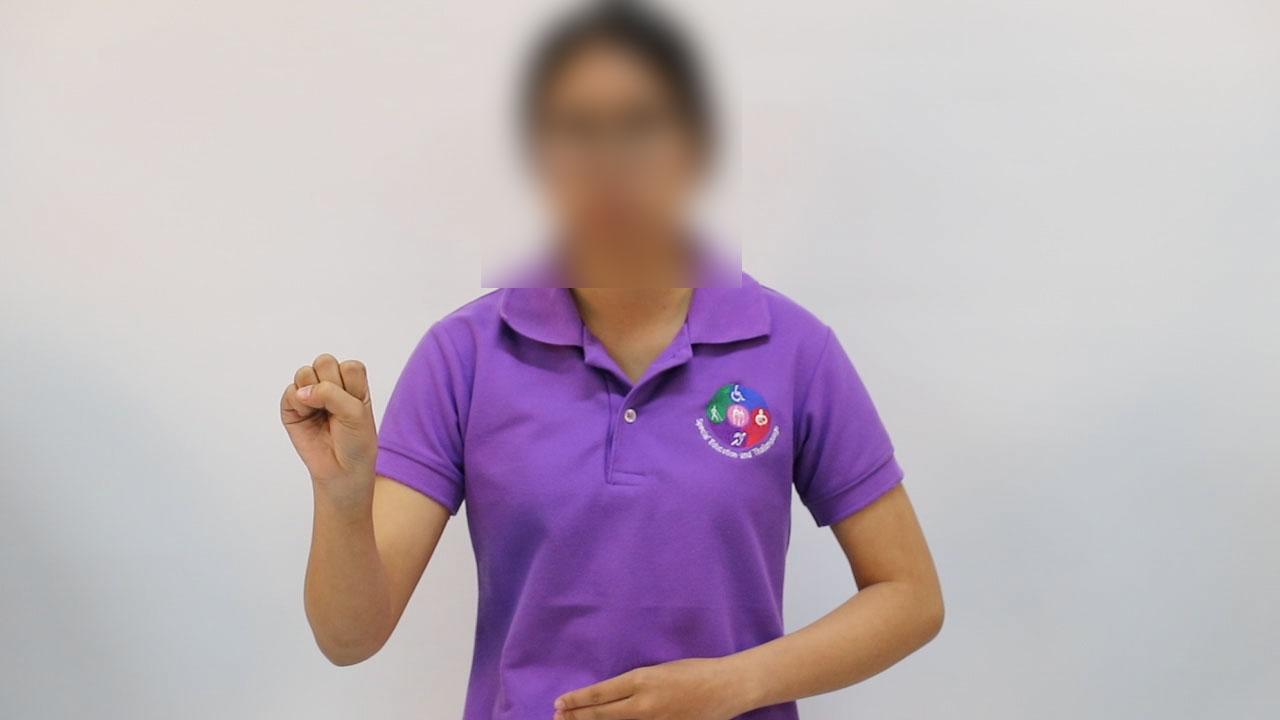sor: (269, 332, 390, 484)
